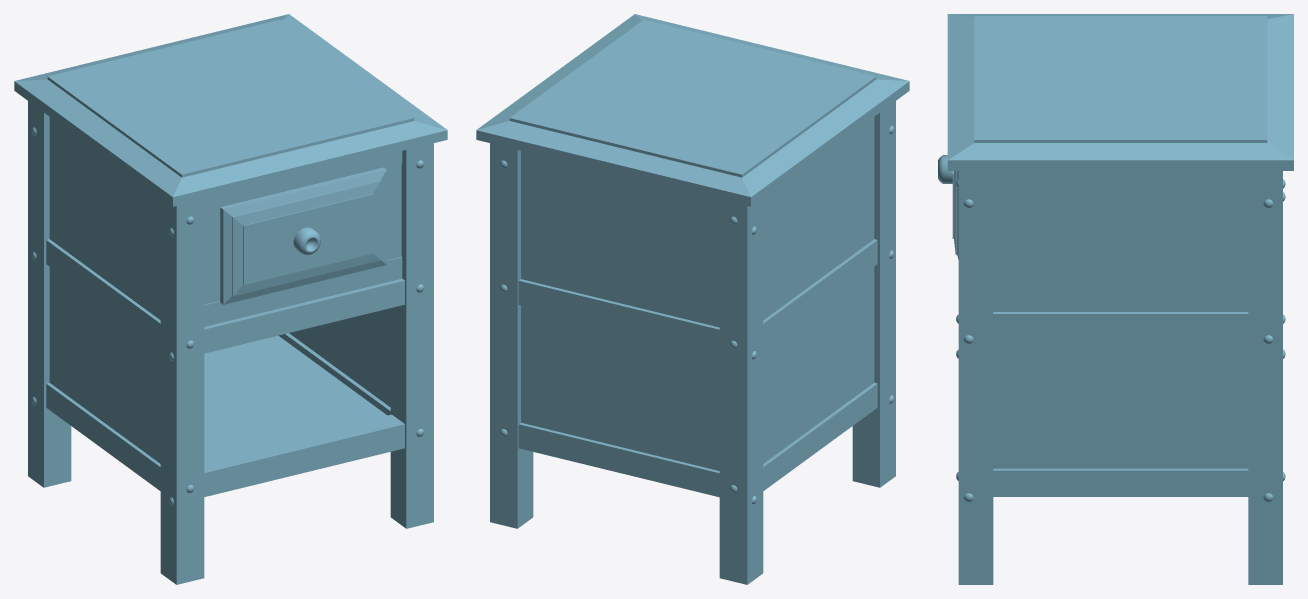
The model's file is TABLE71.glb.
3 renders of one model, left to right at view 1: azimuth 30°, elevation 25°; view 2: azimuth 150°, elevation 25°; view 3: azimuth 270°, elevation 25°, orthographic. The views are drawn at different scales.
Visible parts, largest first — view 1: Drawer_top_Cube.004, Leg_Cube.002, Side_walls_Cube.005, Truss__Cube.017, Door_Cube.013, Base_2_Cube.016, truss_2_Cube.010, truss_3_Cube.007, Knob_Cylinder, Nut_Sphere; view 2: Side_walls_Cube.005, Drawer_top_Cube.004, Leg_Cube.002, Truss__Cube.017, Nut_Sphere; view 3: Side_walls_Cube.005, Drawer_top_Cube.004, Leg_Cube.002, Truss__Cube.017, Nut_Sphere, Door_Cube.013.
Boxes of the visible parts, bbox=[...] form: Drawer_top_Cube.004: bbox=[14, 14, 447, 206]; Leg_Cube.002: bbox=[28, 101, 433, 584]; Side_walls_Cube.005: bbox=[49, 117, 390, 463]; Truss__Cube.017: bbox=[46, 239, 404, 496]; Door_Cube.013: bbox=[220, 167, 386, 304]; Base_2_Cube.016: bbox=[204, 335, 387, 459]; truss_2_Cube.010: bbox=[204, 151, 402, 326]; truss_3_Cube.007: bbox=[204, 164, 401, 304]; Knob_Cylinder: bbox=[293, 227, 320, 255]; Nut_Sphere: bbox=[31, 127, 423, 505]; Side_walls_Cube.005: bbox=[521, 117, 874, 470]; Drawer_top_Cube.004: bbox=[476, 14, 909, 206]; Leg_Cube.002: bbox=[490, 101, 895, 584]; Truss__Cube.017: bbox=[518, 239, 877, 497]; Nut_Sphere: bbox=[500, 125, 894, 504]; Side_walls_Cube.005: bbox=[993, 171, 1248, 468]; Drawer_top_Cube.004: bbox=[947, 14, 1293, 170]; Leg_Cube.002: bbox=[958, 171, 1282, 584]; Truss__Cube.017: bbox=[993, 312, 1248, 496]; Nut_Sphere: bbox=[956, 179, 1285, 501]; Door_Cube.013: bbox=[952, 171, 958, 259].
Size of the model in its own units: 2.39 by 3.34 by 2.46.
